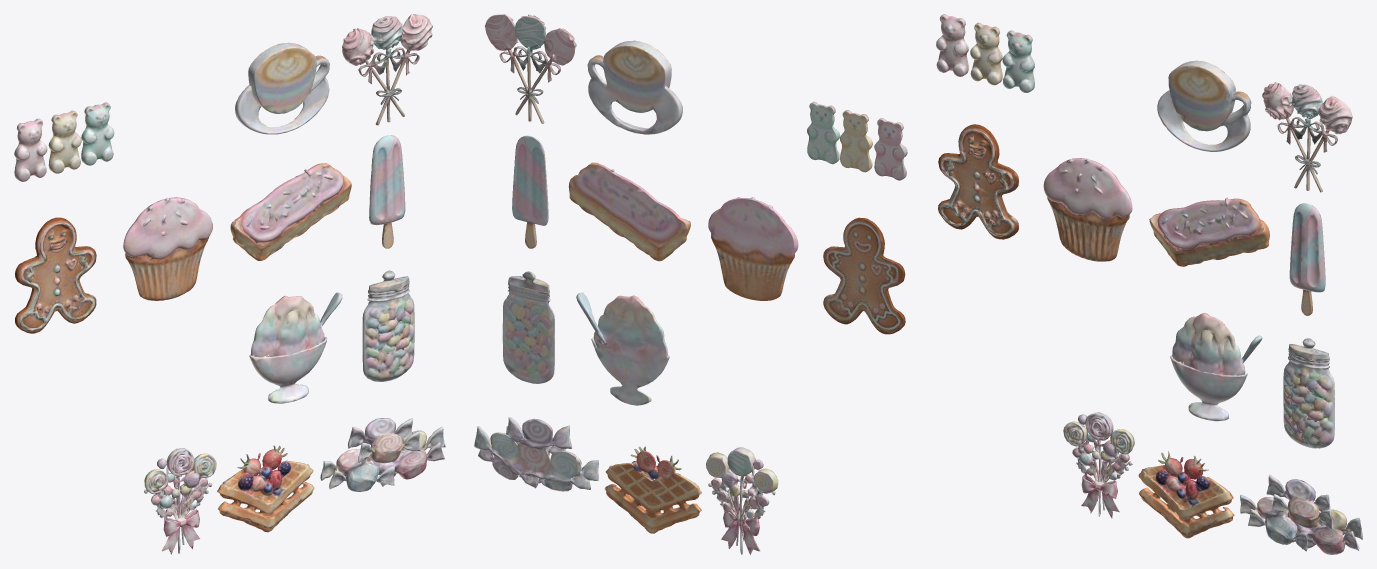
The picture shows the model from 3 angles, left to right: view 1: azimuth 30°, elevation 25°; view 2: azimuth 150°, elevation 25°; view 3: azimuth 330°, elevation 25°; orthographic projection.
Parts seen in each view (by area): view 1: Mesh 8, Mesh 4, Mesh 14, Mesh 15, Mesh 16, Mesh 17, Mesh 13, Mesh 19, Mesh 12, Mesh 18, Mesh 20, Mesh 7 (+2 smaller); view 2: Mesh 8, Mesh 4, Mesh 14, Mesh 15, Mesh 16, Mesh 17, Mesh 13, Mesh 19, Mesh 12, Mesh 18, Mesh 20, Mesh 2 (+2 smaller); view 3: Mesh 8, Mesh 4, Mesh 14, Mesh 15, Mesh 16, Mesh 17, Mesh 13, Mesh 19, Mesh 12, Mesh 18, Mesh 20, Mesh 2 (+2 smaller).
Part boxes in pixels (x1,y1,x2,y2): Mesh 8: [123, 197, 212, 300]; Mesh 4: [15, 217, 96, 333]; Mesh 14: [230, 163, 351, 260]; Mesh 15: [235, 42, 329, 134]; Mesh 16: [249, 292, 342, 403]; Mesh 17: [320, 418, 445, 491]; Mesh 13: [217, 445, 314, 532]; Mesh 19: [362, 270, 414, 381]; Mesh 12: [144, 448, 216, 554]; Mesh 18: [342, 14, 432, 125]; Mesh 20: [369, 135, 405, 248]; Mesh 7: [81, 102, 114, 165]; Mesh 8: [708, 197, 798, 300]; Mesh 4: [823, 217, 905, 334]; Mesh 14: [568, 162, 690, 261]; Mesh 15: [587, 40, 682, 134]; Mesh 16: [576, 292, 669, 405]; Mesh 17: [474, 417, 598, 491]; Mesh 13: [604, 446, 701, 533]; Mesh 19: [502, 271, 554, 383]; Mesh 12: [706, 447, 778, 554]; Mesh 18: [485, 14, 576, 123]; Mesh 20: [512, 135, 548, 248]; Mesh 2: [874, 118, 907, 180]; Mesh 8: [1043, 158, 1132, 261]; Mesh 4: [938, 124, 1018, 239]; Mesh 14: [1149, 197, 1269, 266]; Mesh 15: [1157, 60, 1251, 151]; Mesh 16: [1170, 313, 1262, 421]; Mesh 17: [1240, 474, 1362, 554]; Mesh 13: [1138, 451, 1234, 538]; Mesh 19: [1283, 338, 1334, 448]; Mesh 12: [1063, 412, 1134, 518]; Mesh 18: [1262, 82, 1352, 192]; Mesh 20: [1289, 203, 1325, 315]; Mesh 2: [936, 14, 968, 76].
Size of the model in its own units: 1.76 by 1.9 by 0.0599.
Materials: 14 (14 with a texture image).
